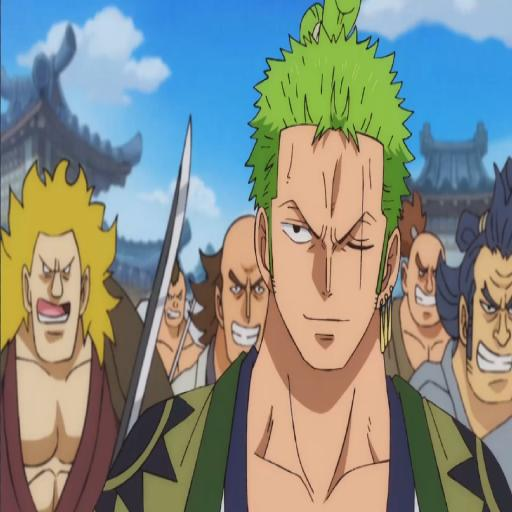Zoro: (127, 0, 512, 512)
